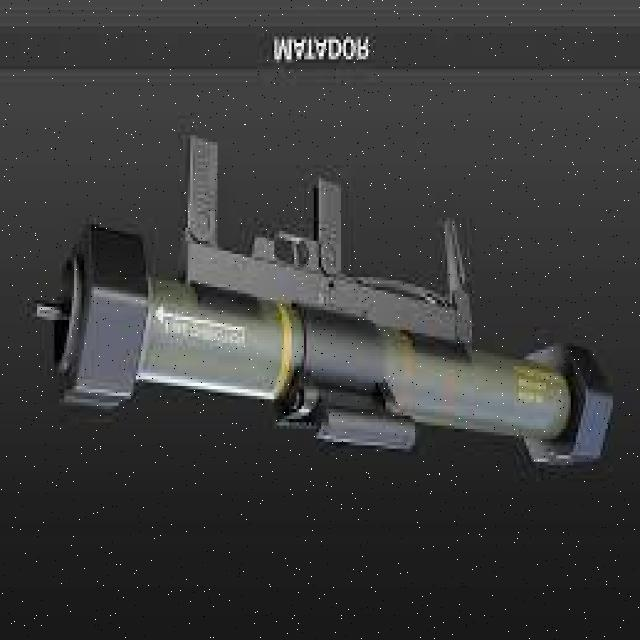bazooka: (28, 123, 623, 499)
